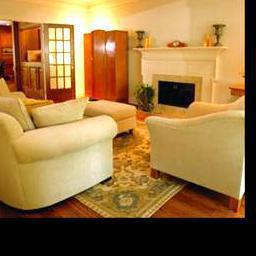Armario: (82, 31, 127, 100)
Matera: (133, 85, 157, 120)
Puerta: (42, 23, 76, 99)
